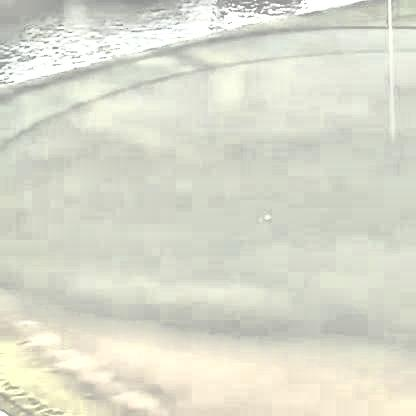golfball: (261, 210, 271, 220)
